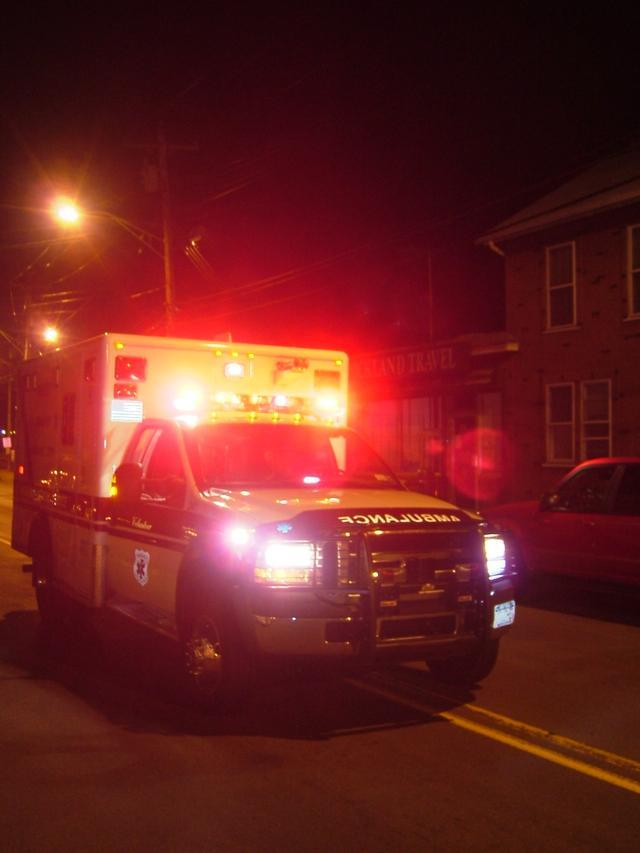ambulance_on: (10, 334, 524, 714)
